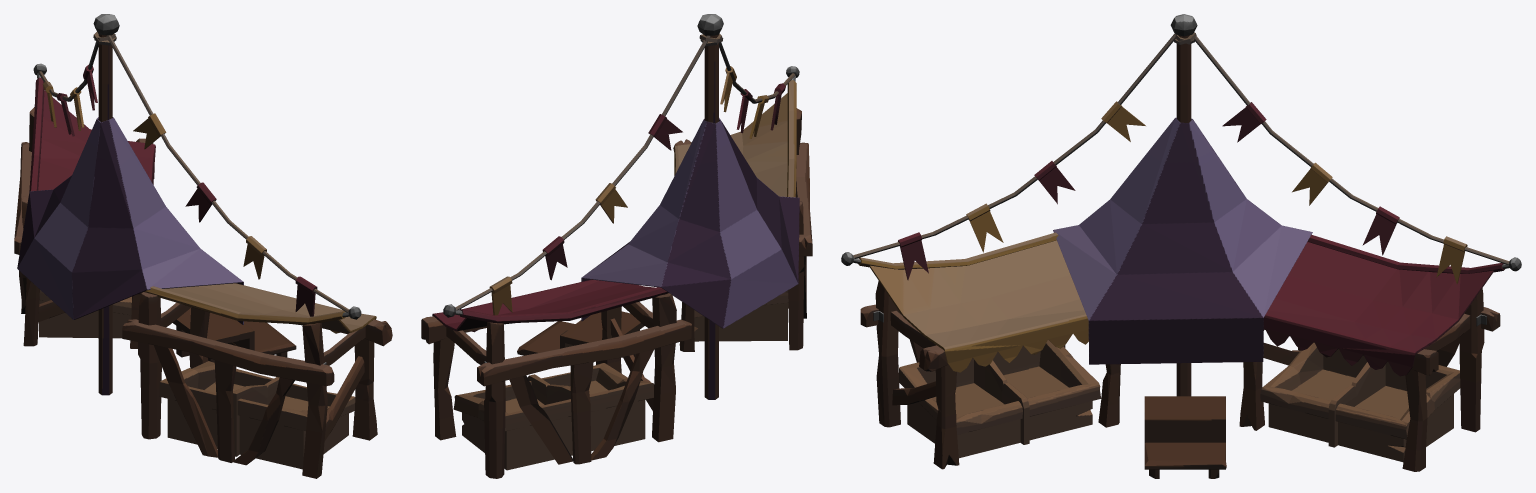
File: LargeTent.gltf
The picture shows the model from 3 angles, left to right: view 1: azimuth 30°, elevation 25°; view 2: azimuth 150°, elevation 25°; view 3: azimuth 270°, elevation 25°; orthographic projection. The views are drawn at different scales.
Parts seen in each view (by area): view 1: tent04; view 2: tent04; view 3: tent04.
Part boxes in pixels (x1,y1,x2,y2): tent04: (14, 14, 392, 478); tent04: (421, 14, 812, 478); tent04: (841, 14, 1521, 478).
Bounding box in the file's own units: 0.0662 × 0.1035 × 0.1655.
Materials: 1 (1 with a texture image).
